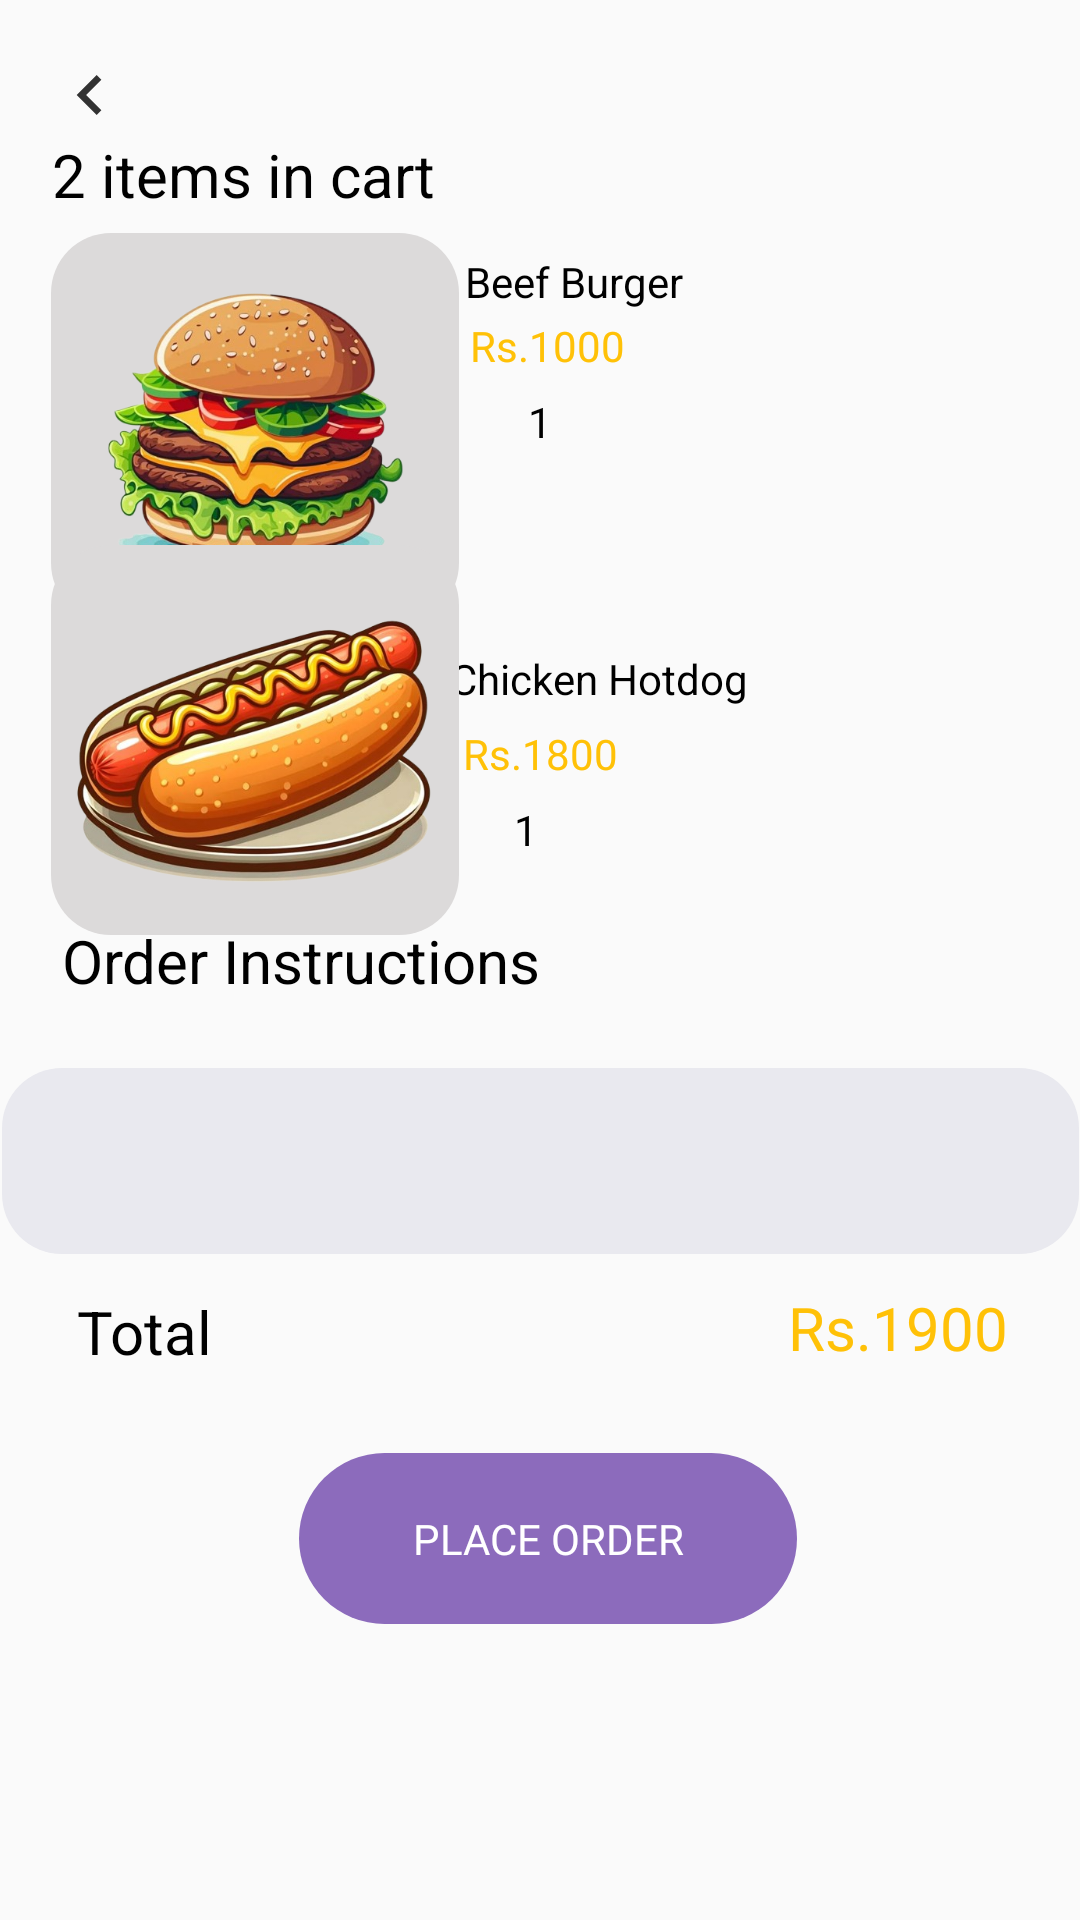

Icon click points for this 1080w x 1920h phone screenshot, format point (x, y):
back: point (89, 95)
